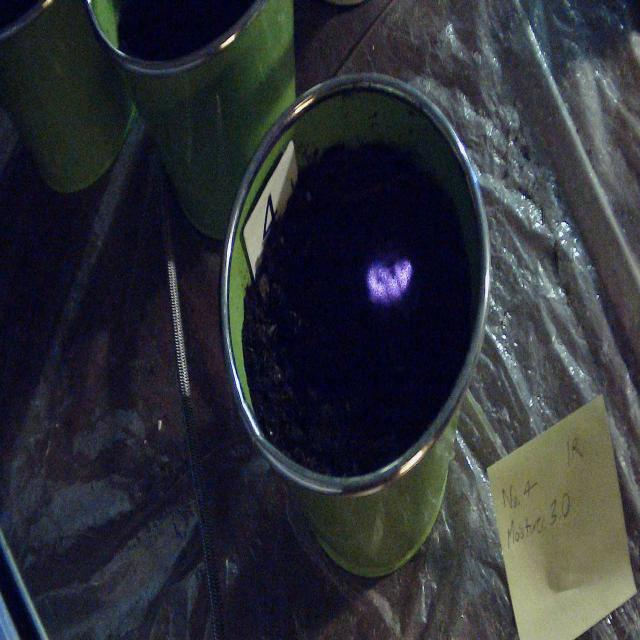soil-moisture-3.0: (366, 256, 412, 303)
